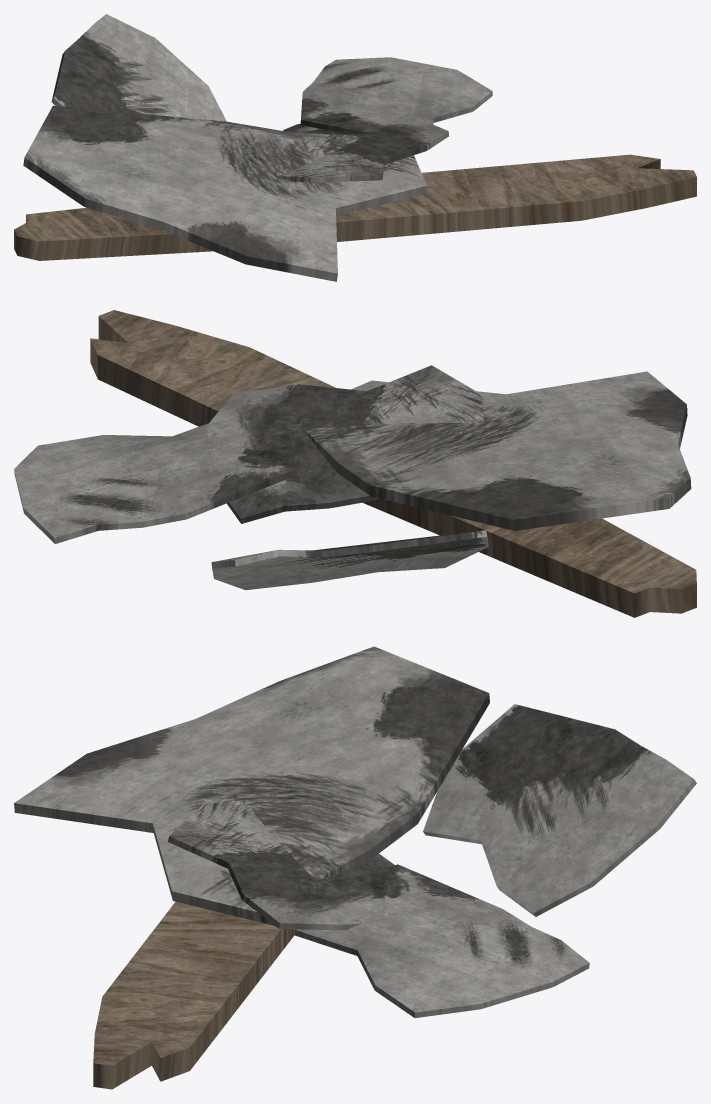
Rendered from Escombros_3.fbx.
The picture shows the model from 3 angles, top to bottom: view 1: azimuth 30°, elevation 25°; view 2: azimuth 150°, elevation 25°; view 3: azimuth 270°, elevation 25°; orthographic projection. The views are drawn at different scales.
Visible parts, largest first — view 1: pCube9; view 2: pCube9; view 3: pCube9.
Part boxes in pixels (x1=…): pCube9: x1=14, y1=14, x2=696, y2=281; pCube9: x1=14, y1=310, x2=696, y2=617; pCube9: x1=14, y1=646, x2=696, y2=1089.
Bounding box in the file's own units: 0.9782 × 0.1474 × 0.8261.
